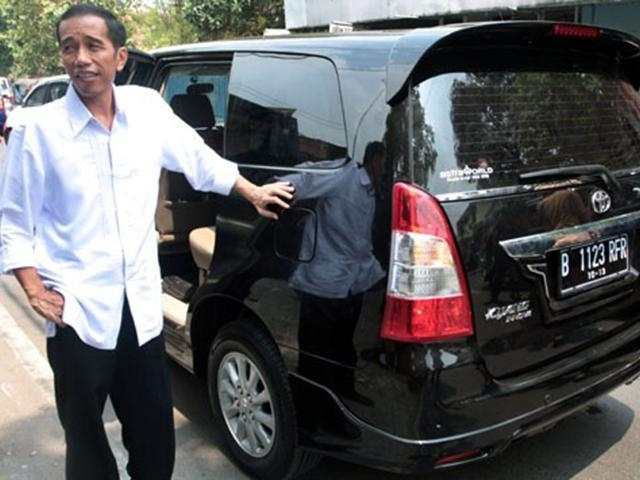plate: (562, 237, 628, 286)
